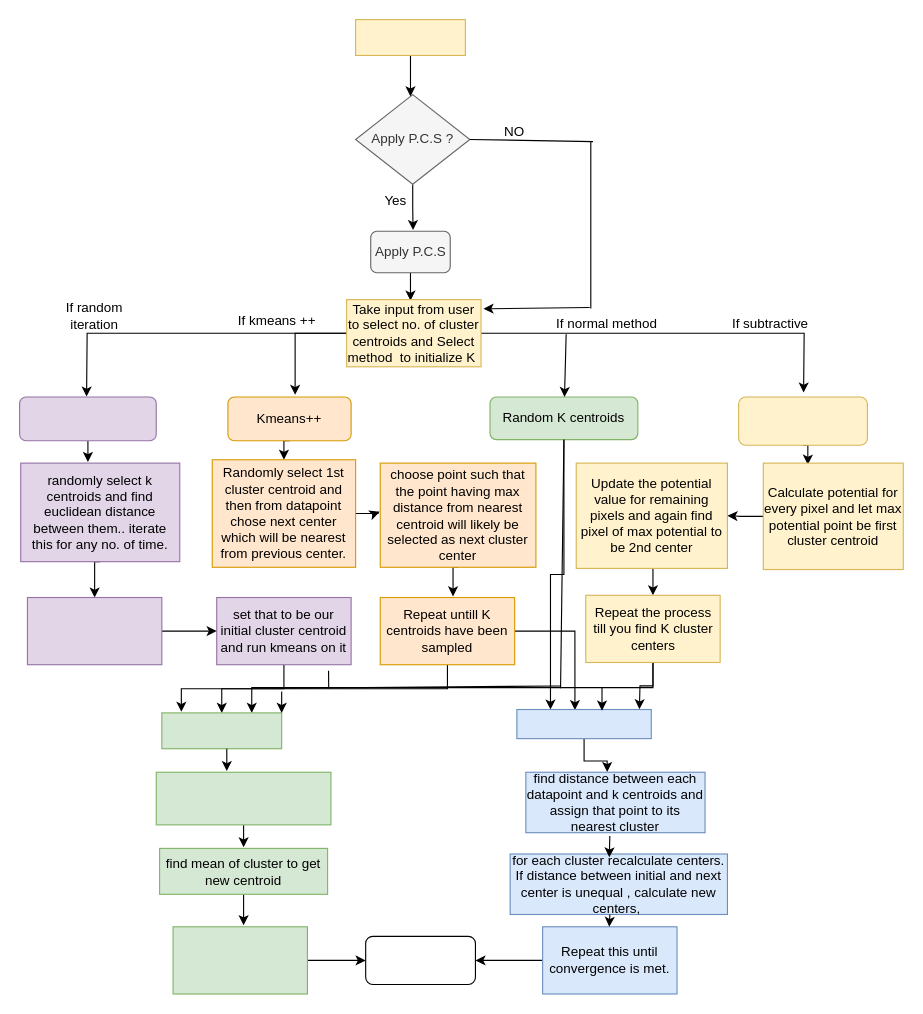
Image size: 923x1014. Some labels were removed from this diagram. Each missing label, with the box of its shape:
find that set of cluster centroids whose sum is maximum: (26, 596, 162, 665)
for each pixel , find nearest cluster and assign it to that cluster: (155, 771, 331, 825)
improved kmeans: (516, 708, 651, 739)
is new centroid different from previous centroid ?: (172, 926, 307, 994)
Kmeans: (161, 712, 282, 749)
Output the clustering results: (365, 935, 475, 984)
Random iteration method: (18, 396, 156, 441)
Read the image: (354, 18, 465, 55)
Subtractive Clustering: (738, 396, 867, 445)
